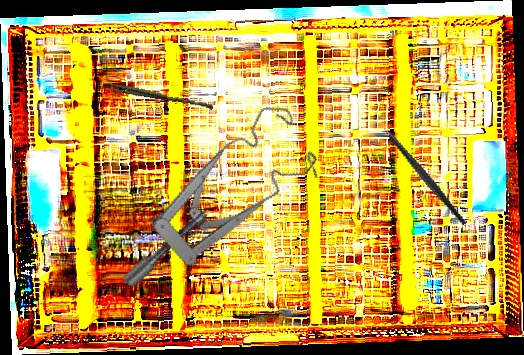Chopper: (368, 102, 468, 244)
Speculum: (85, 97, 338, 290)
Tissue Forceps: (102, 81, 215, 111)
